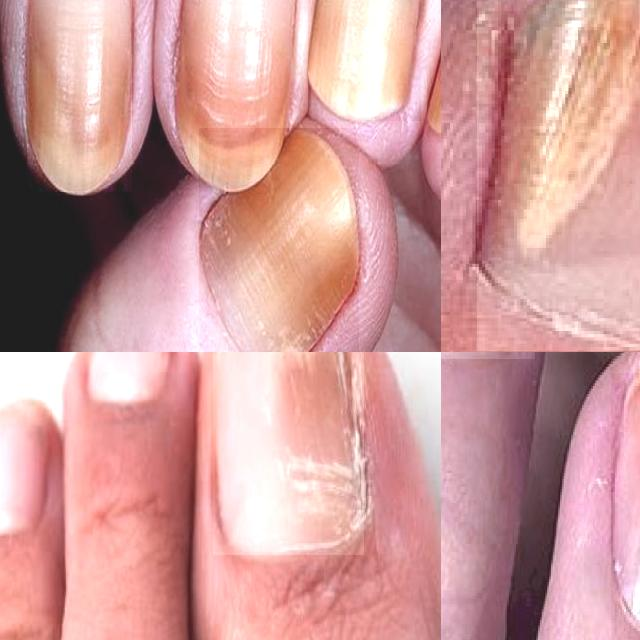diabetes: (199, 128, 359, 352), (214, 352, 364, 555), (173, 0, 295, 192), (28, 0, 132, 192), (309, 0, 421, 121)
